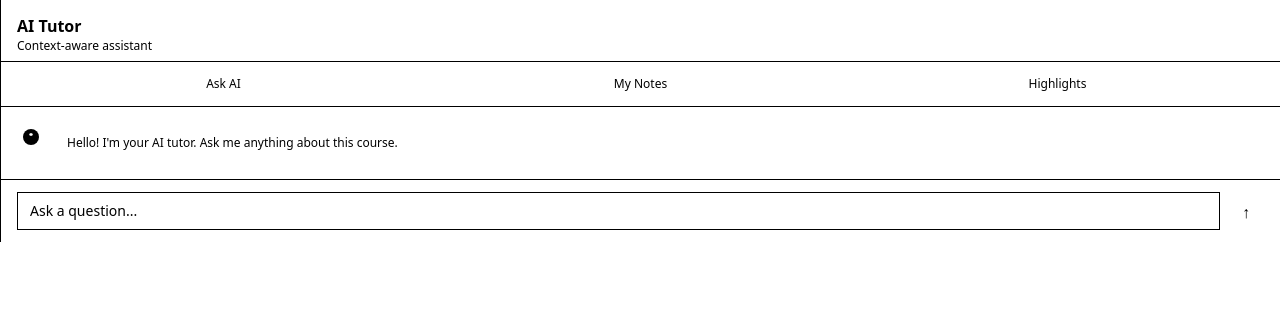
Scenario: AITutorPanel › hitting Enter (without Shift) sends message
The image size is (1280, 310).
Type "Test message" into the text box with test id "ai-tutor-input".
click(618, 210); type("Test message")  # box top-left (17, 192), bottom-right (1220, 230)
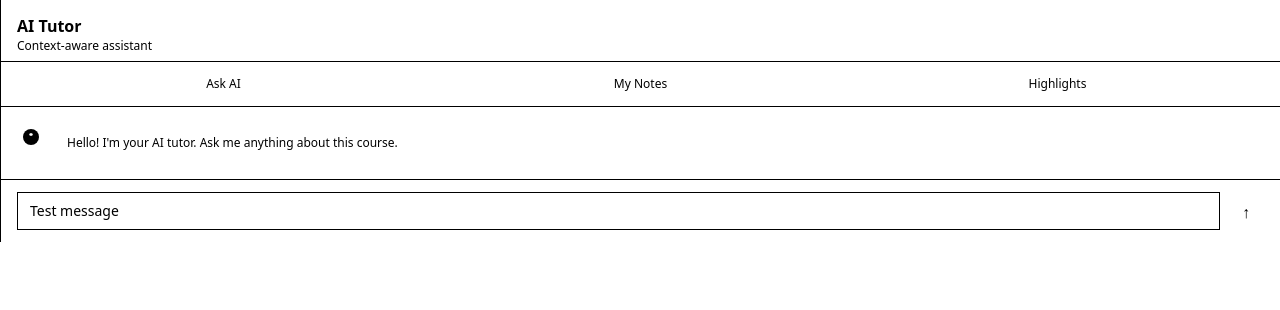
Press Enter in the text box with test id "ai-tutor-input", box top-left (17, 192), bottom-right (1220, 230)
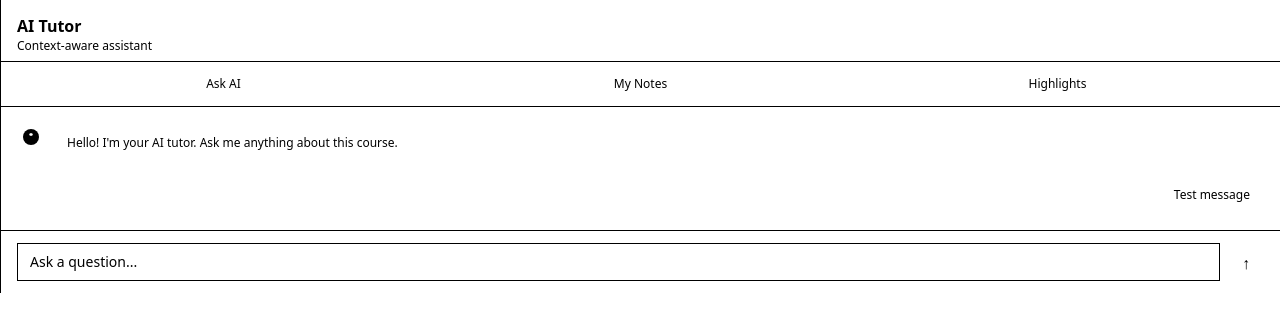
Expected: the text "Test message" is shown, top-left (1174, 186), bottom-right (1250, 202)
